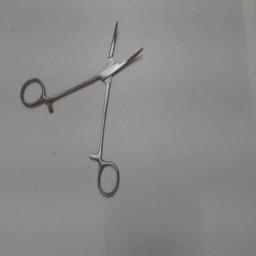Crile Artery Forceps: (18, 17, 146, 201)
